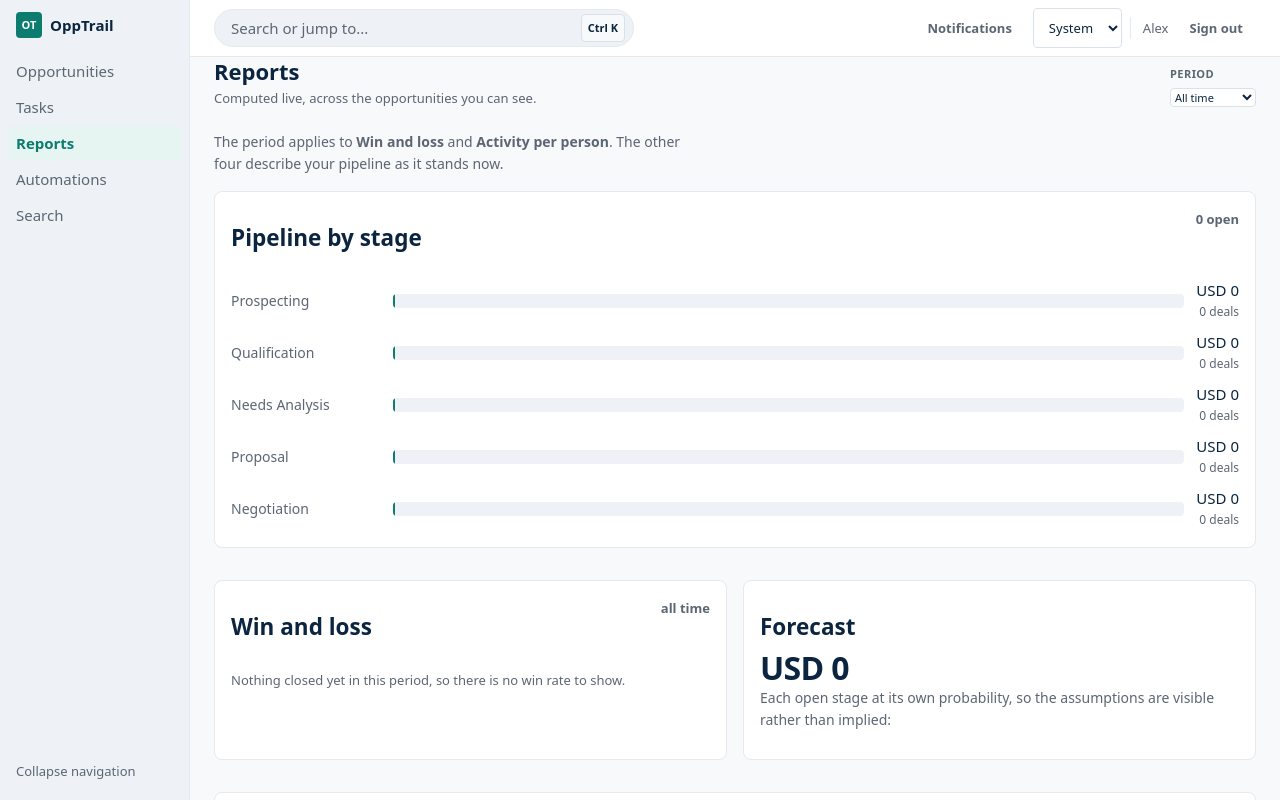
Test: one shell for every screen › reaches Automations from Reports, which used to be a dead end
Check: the heading "Reports" is shown, box [214, 56, 300, 86]
Step 1. Click the link "Automations" → (61, 179), box [16, 169, 107, 189]
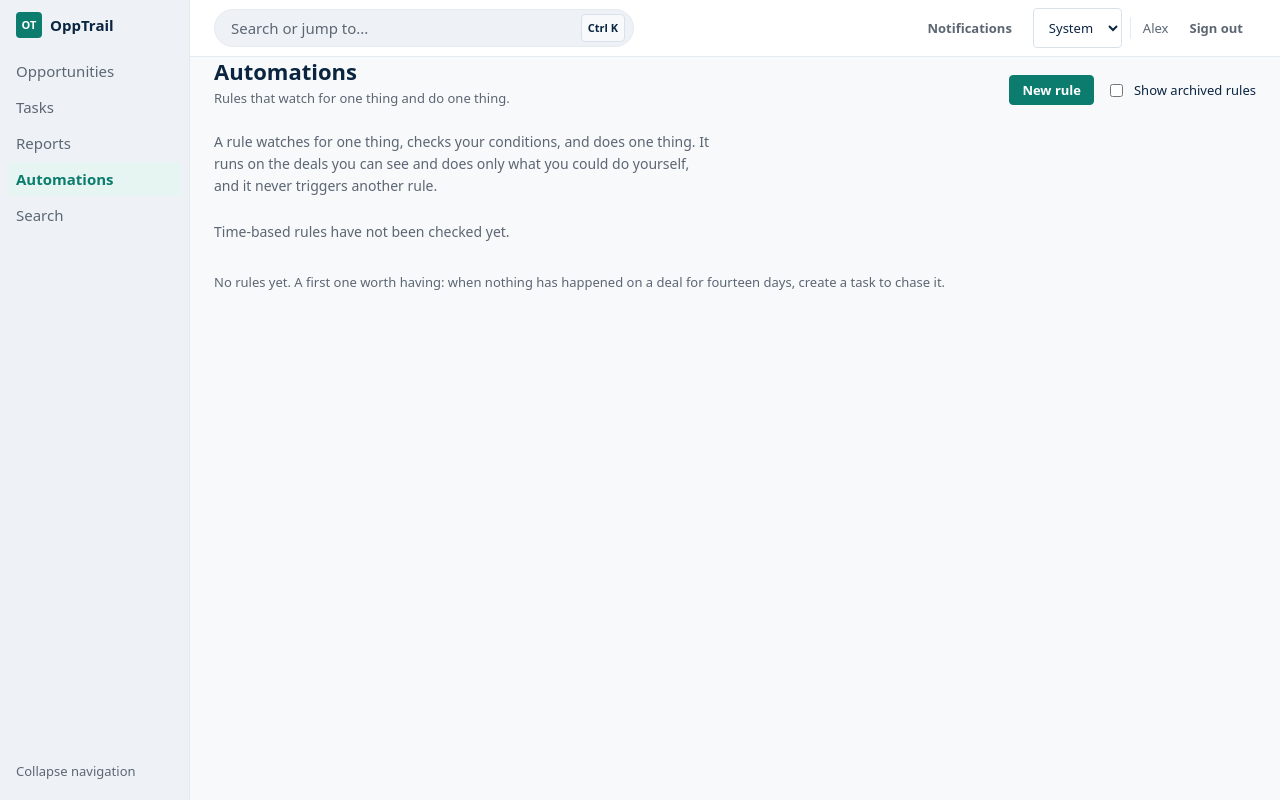
Check: the heading "Automations" is shown, box [214, 56, 357, 86]
